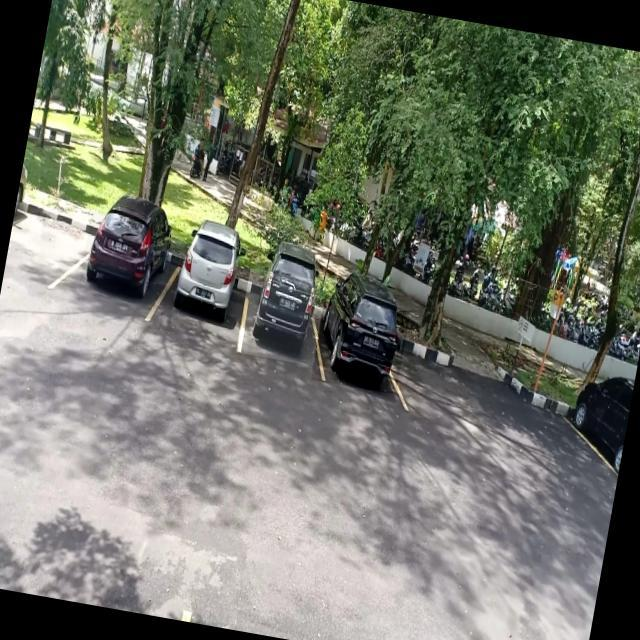occupied: (158, 240, 257, 344), (76, 210, 176, 308), (311, 296, 410, 394), (235, 268, 328, 366)
